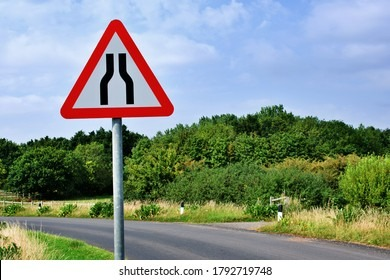narrow-road: (59, 21, 173, 118)
